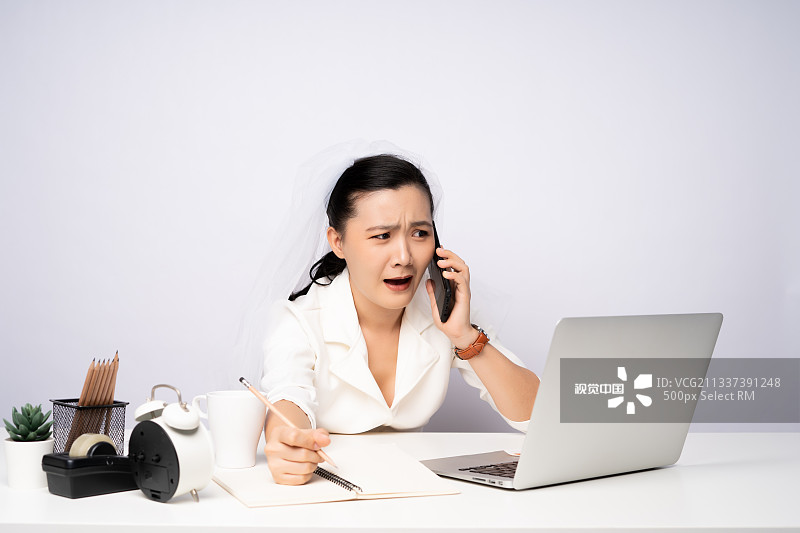calling: (411, 234, 506, 350)
no-phone: (233, 371, 344, 491)
